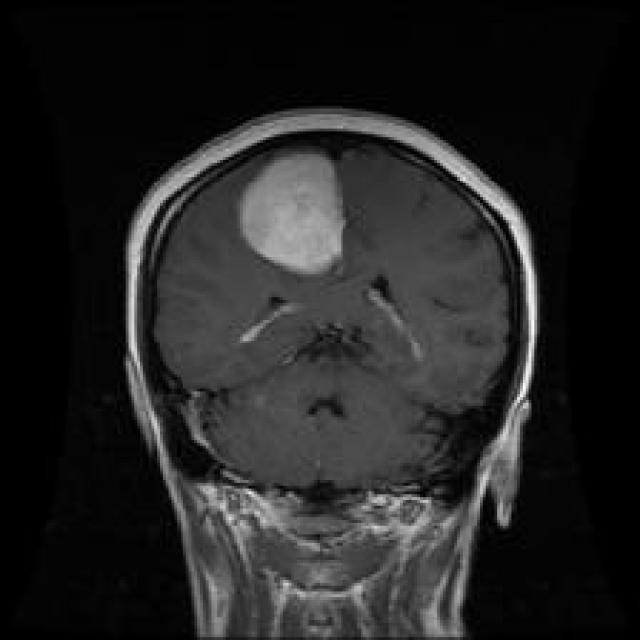meningioma_tumor: (230, 134, 362, 293)
